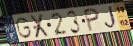2: (50, 12, 69, 37)
3: (65, 9, 82, 35)
G: (16, 17, 34, 41)
J: (103, 4, 118, 31)
P: (83, 7, 100, 33)
X: (29, 13, 51, 40)
